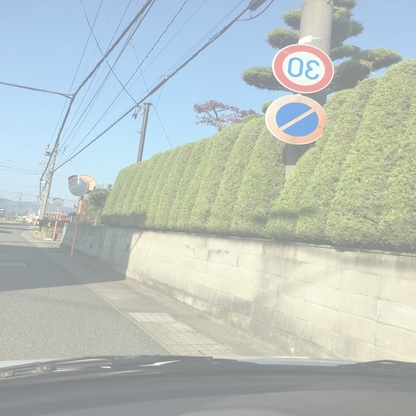Prohibition_sign: (264, 91, 347, 151)
Speed_sign: (274, 42, 339, 95)
